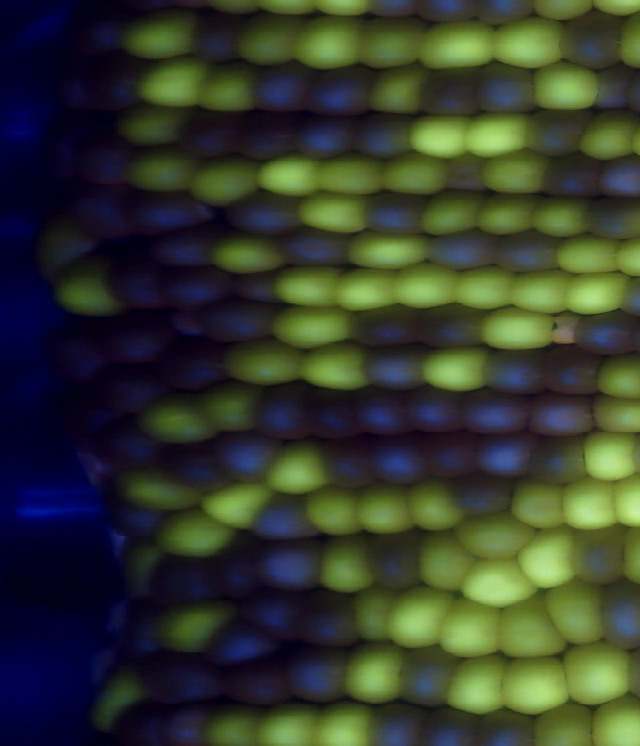fluorescent: (41, 248, 130, 323), (554, 635, 636, 711), (494, 647, 576, 720), (129, 387, 221, 452), (113, 7, 210, 67), (412, 10, 502, 74), (214, 329, 311, 388), (151, 505, 247, 564), (511, 520, 586, 595), (107, 462, 210, 516), (30, 212, 103, 288), (492, 591, 571, 661), (229, 7, 314, 71), (381, 581, 454, 655), (440, 646, 513, 720), (151, 598, 241, 658), (339, 639, 414, 711), (413, 526, 484, 602), (258, 436, 341, 501), (291, 10, 370, 78), (481, 12, 566, 75), (451, 506, 531, 572), (451, 554, 545, 610), (197, 474, 278, 538), (434, 591, 506, 663), (264, 299, 358, 354), (84, 660, 151, 737), (206, 226, 295, 283), (542, 576, 609, 651), (184, 155, 267, 214), (294, 336, 375, 396), (114, 142, 205, 195), (388, 255, 471, 313), (354, 11, 434, 70), (133, 54, 213, 113), (189, 56, 263, 119), (344, 224, 439, 273), (105, 531, 163, 610), (299, 480, 375, 540), (526, 55, 604, 113), (267, 261, 352, 314), (477, 145, 557, 201), (459, 107, 538, 163), (504, 265, 583, 321), (326, 262, 411, 314), (194, 378, 265, 440), (347, 480, 419, 541), (477, 301, 558, 355), (306, 149, 390, 201), (469, 187, 549, 241), (401, 108, 478, 164), (292, 186, 378, 236), (508, 468, 573, 534), (560, 470, 625, 535), (247, 694, 326, 746), (313, 530, 377, 594), (362, 62, 430, 122), (444, 261, 519, 315), (575, 104, 640, 166), (379, 146, 455, 199), (574, 425, 640, 486), (414, 186, 486, 241), (255, 148, 330, 200), (305, 697, 384, 746), (116, 101, 196, 149), (402, 474, 467, 533), (347, 582, 403, 649), (419, 342, 491, 394), (525, 188, 595, 241), (552, 229, 628, 277), (526, 698, 602, 746), (560, 269, 634, 317), (197, 698, 270, 746), (582, 689, 640, 746), (592, 347, 640, 406), (582, 388, 640, 436), (609, 468, 640, 533), (608, 228, 640, 283)
nonfluorescent: (126, 644, 223, 711), (99, 242, 180, 318), (113, 187, 219, 244), (88, 475, 172, 544), (49, 378, 134, 446), (39, 40, 106, 124), (275, 645, 359, 712), (91, 308, 181, 367), (245, 535, 333, 595), (140, 554, 232, 611), (297, 60, 378, 124), (151, 335, 230, 400), (65, 121, 139, 190), (88, 44, 154, 120), (43, 316, 114, 386), (220, 187, 308, 243), (564, 522, 634, 592), (156, 438, 240, 496), (63, 180, 141, 242), (392, 642, 460, 713), (344, 301, 435, 354), (453, 387, 537, 444), (554, 8, 625, 75), (154, 262, 242, 316), (290, 585, 364, 649), (412, 300, 495, 357), (362, 529, 432, 596), (227, 107, 305, 167), (186, 4, 255, 71), (245, 376, 314, 443), (106, 598, 170, 669), (534, 340, 607, 402), (196, 619, 283, 671), (519, 104, 595, 163), (91, 363, 174, 417), (211, 426, 283, 488), (395, 382, 473, 439), (248, 58, 322, 118), (195, 296, 282, 347), (217, 656, 296, 712), (469, 57, 541, 118), (470, 425, 544, 484), (268, 223, 355, 273), (234, 586, 309, 644), (416, 63, 486, 125), (316, 433, 386, 495), (519, 392, 604, 443), (169, 106, 245, 163), (525, 431, 597, 491), (359, 186, 436, 242), (244, 488, 322, 543), (347, 383, 419, 442), (361, 432, 434, 490), (64, 1, 137, 58), (355, 339, 433, 392), (298, 385, 365, 446), (146, 222, 227, 272), (474, 344, 550, 397), (420, 226, 502, 275), (417, 428, 487, 485), (488, 228, 567, 278), (89, 420, 167, 470), (289, 112, 362, 165), (203, 544, 268, 603), (346, 110, 417, 163), (535, 150, 606, 203), (568, 310, 640, 362), (103, 693, 173, 746), (446, 472, 520, 522), (361, 696, 433, 746), (597, 575, 640, 655), (578, 191, 640, 245), (412, 702, 487, 746), (473, 705, 542, 746), (585, 62, 635, 118), (155, 698, 213, 746), (438, 150, 493, 200), (592, 151, 640, 207), (229, 267, 285, 307)
